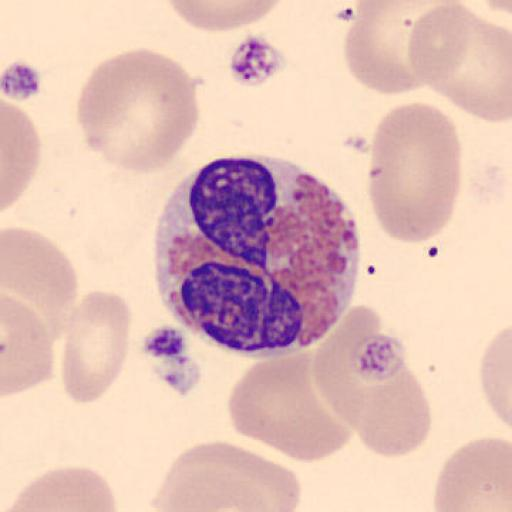Platelet: (226, 30, 290, 90)
RBC: (312, 307, 432, 459), (75, 46, 201, 175), (228, 347, 357, 463), (366, 101, 463, 243), (344, 0, 477, 96), (409, 2, 512, 124), (156, 440, 304, 512), (336, 360, 433, 459), (2, 226, 79, 344), (343, 0, 432, 96), (60, 288, 132, 406), (434, 436, 512, 512), (2, 293, 56, 397), (3, 465, 118, 512), (408, 2, 470, 84), (2, 99, 42, 213), (163, 0, 288, 34), (479, 324, 512, 430), (455, 0, 512, 14), (471, 0, 512, 13), (482, 0, 512, 14)
WBC: (154, 156, 364, 356)
